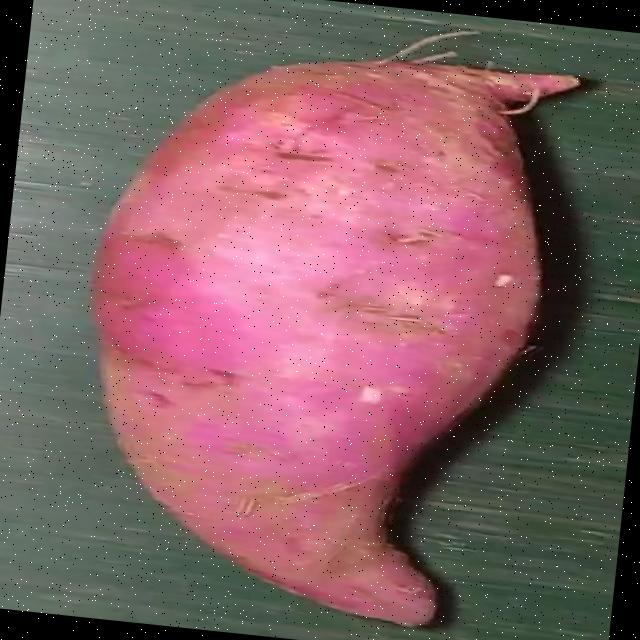Sweet Potato: (93, 56, 578, 625)
